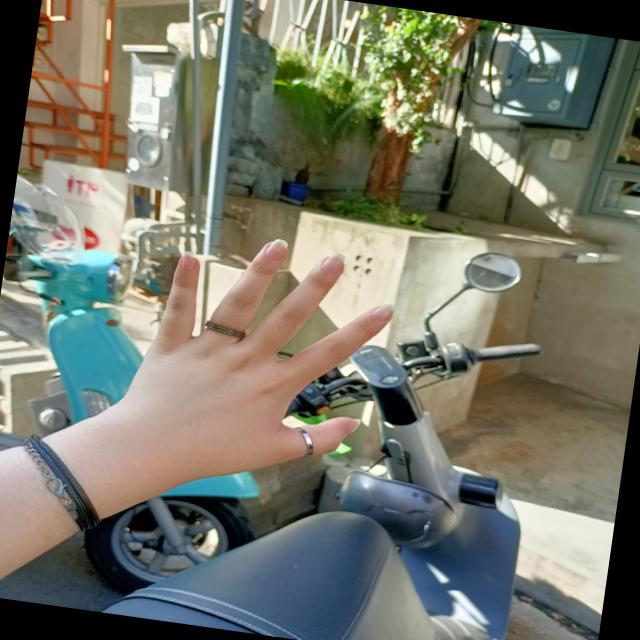Nail: (265, 239, 288, 261), (322, 253, 345, 274), (372, 304, 396, 321), (181, 251, 195, 271), (347, 418, 362, 436)
